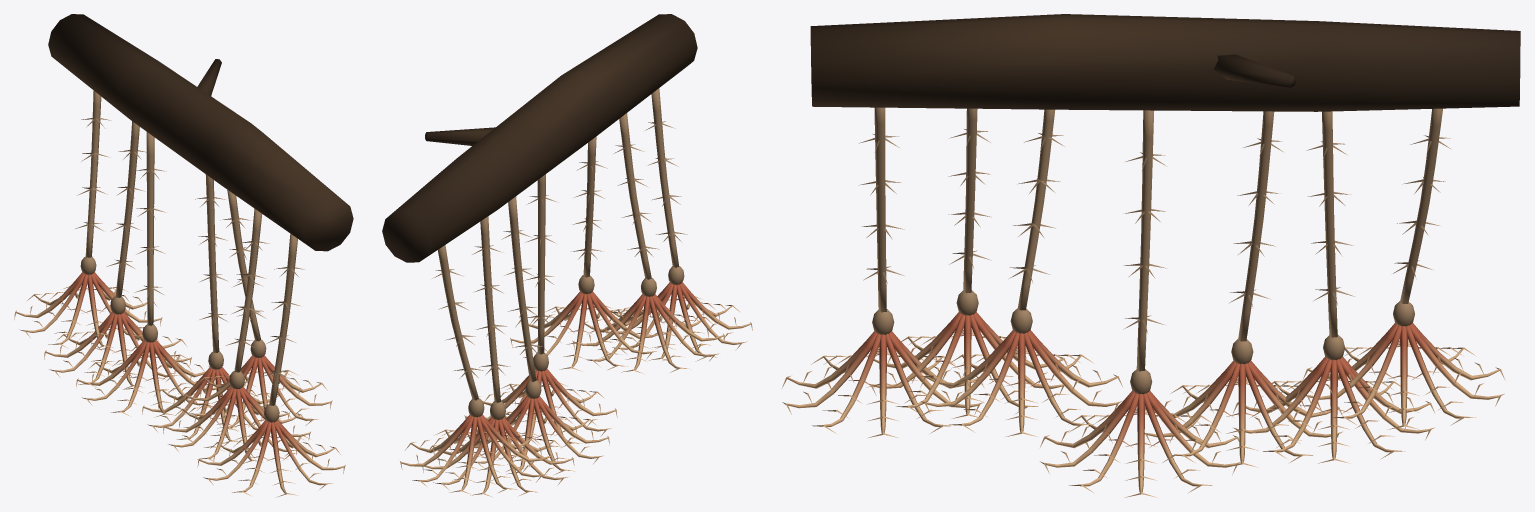
File: Pentacrinites.fbx
3 views of the same model, side by side, from view 1: azimuth 30°, elevation 25°; view 2: azimuth 150°, elevation 25°; view 3: azimuth 270°, elevation 25° (orthographic). The views are drawn at different scales.
Parts seen in each view (by area): view 1: Pentacrinites; view 2: Pentacrinites; view 3: Pentacrinites.
Boxes of the visible parts, <box> form: Pentacrinites: <box>14,14,353,497</box>; Pentacrinites: <box>382,14,752,497</box>; Pentacrinites: <box>782,14,1520,497</box>.
Size of the model in its own units: 0.5359 by 0.9467 by 1.46.
